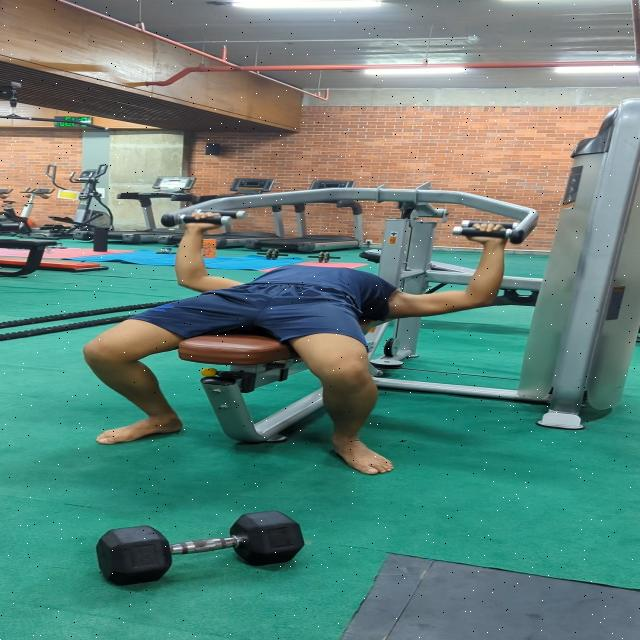Normal_BrenchPress: (51, 208, 538, 483)
